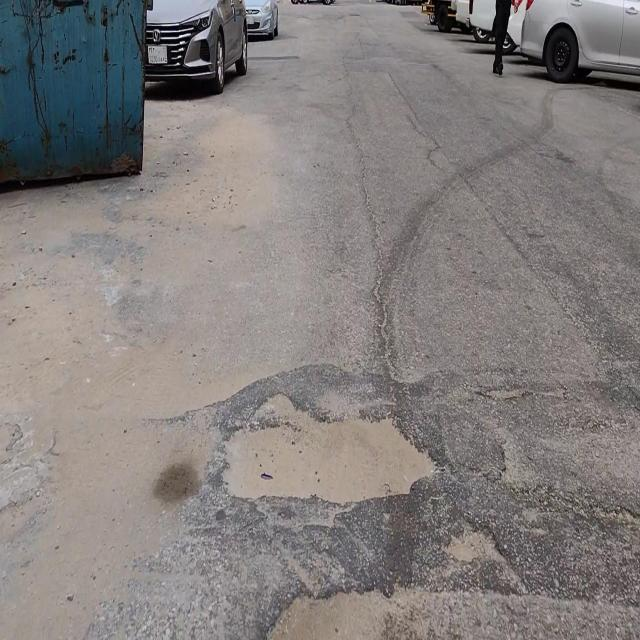Pothole: (222, 391, 441, 507), (263, 586, 396, 636)
